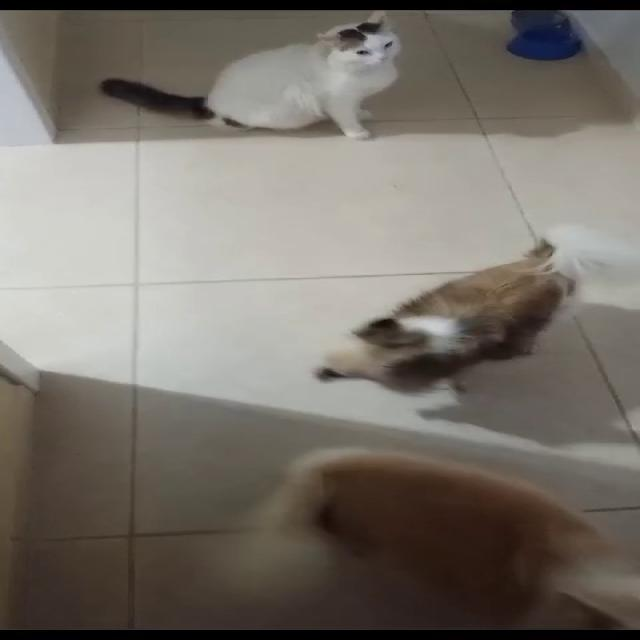Pedrita: (214, 397, 638, 639)
Theo: (214, 397, 638, 639)
